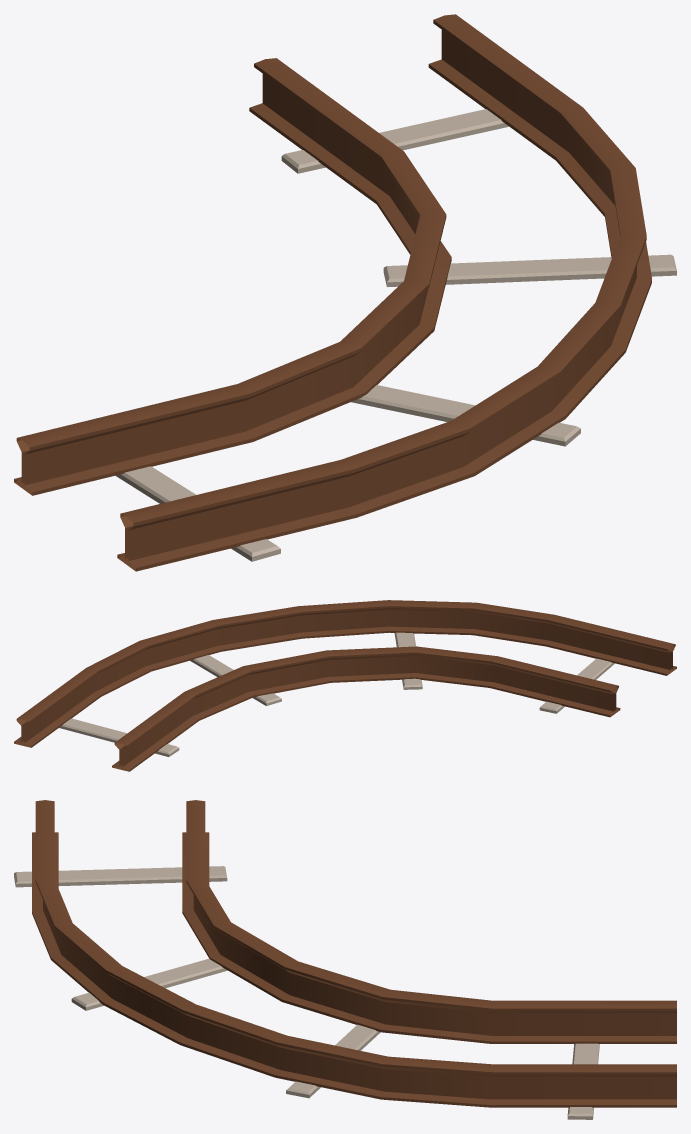
The model's file is SmallCurveLeft_Track_V1.fbx.
3 renders of one model, top to bottom at view 1: azimuth 30°, elevation 25°; view 2: azimuth 150°, elevation 25°; view 3: azimuth 270°, elevation 25°, orthographic. The views are drawn at different scales.
Parts seen in each view (by area): view 1: Rail_Left_Small; view 2: Rail_Left_Small; view 3: Rail_Left_Small.
Boxes of the visible parts, bbox=[...] form: Rail_Left_Small: bbox=[14, 14, 676, 571]; Rail_Left_Small: bbox=[14, 600, 676, 771]; Rail_Left_Small: bbox=[14, 800, 676, 1119].
Bounding box in the file's own units: 357 × 23.67 × 357.
